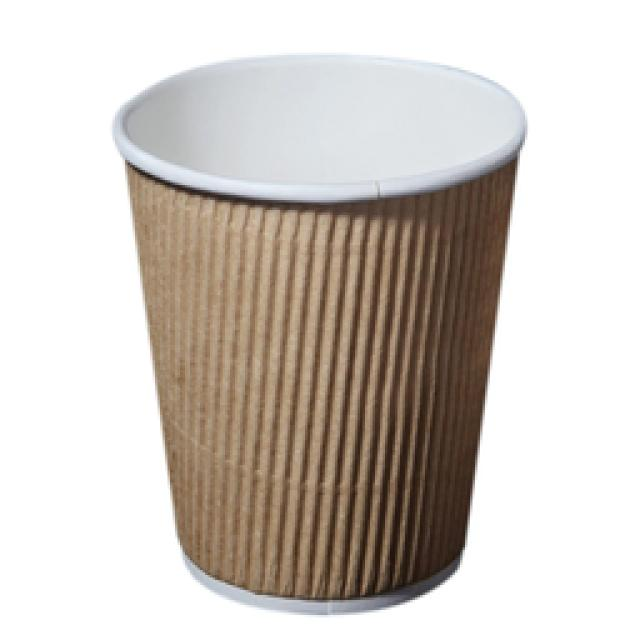paper_cups: (111, 48, 534, 616)
